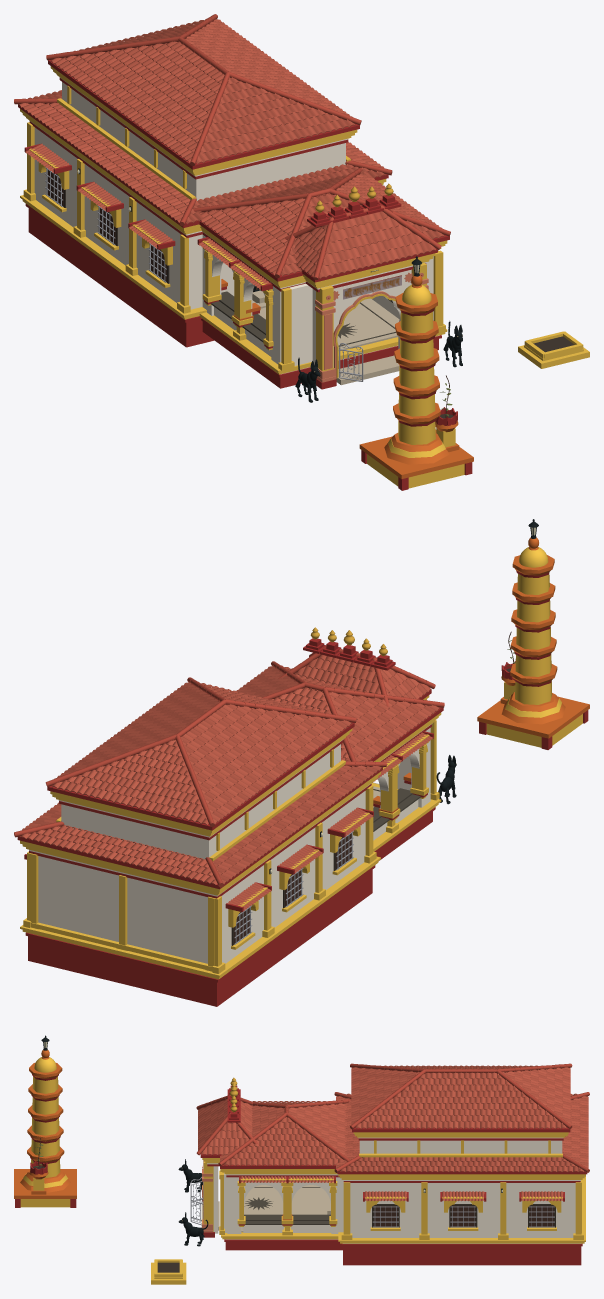
Rendered from kalbhairav-dhargal.glb.
3 renders of one model, top to bottom at view 1: azimuth 30°, elevation 25°; view 2: azimuth 150°, elevation 25°; view 3: azimuth 270°, elevation 25°, orthographic. The views are drawn at different scales.
Visible parts, largest first — view 1: Shri Kalbhairav Temple — architectural reconstruction; view 2: Shri Kalbhairav Temple — architectural reconstruction; view 3: Shri Kalbhairav Temple — architectural reconstruction.
Part boxes in pixels (x1=…): Shri Kalbhairav Temple — architectural reconstruction: x1=14, y1=14, x2=589, y2=490; Shri Kalbhairav Temple — architectural reconstruction: x1=14, y1=519, x2=589, y2=1006; Shri Kalbhairav Temple — architectural reconstruction: x1=14, y1=1035, x2=589, y2=1284.
Size of the model in its own units: 11.5 by 8.54 by 25.99.
31 materials, 1 textured.
